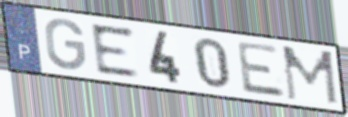0: (191, 36, 233, 90)
4: (148, 30, 184, 86)
E: (234, 40, 288, 100), (88, 22, 142, 79)
G: (43, 16, 88, 72)
M: (280, 44, 341, 107)
